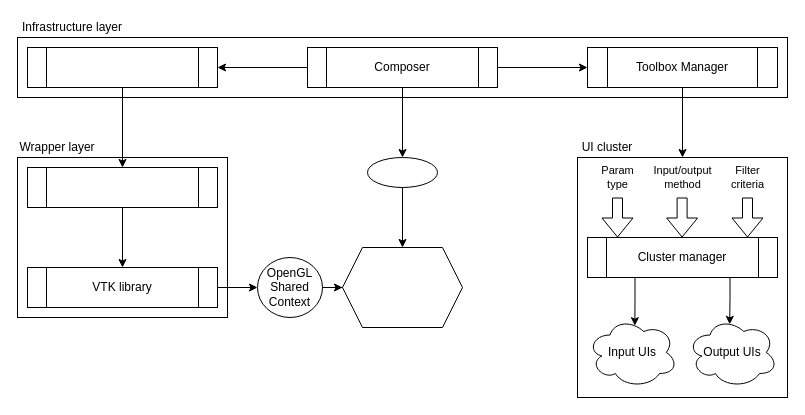
Image size: 805x415. Some labels were removed from this diagram. The shapes that lost their labels are listed below. From the top down, each one's centre as x and y in pixels, then its label:
At point 122,67: "VTK Introspection provider".
At point 122,187: "C# VTK Wrapper".
At point 402,172: "Integration".
At point 402,287: "Unity engine".
